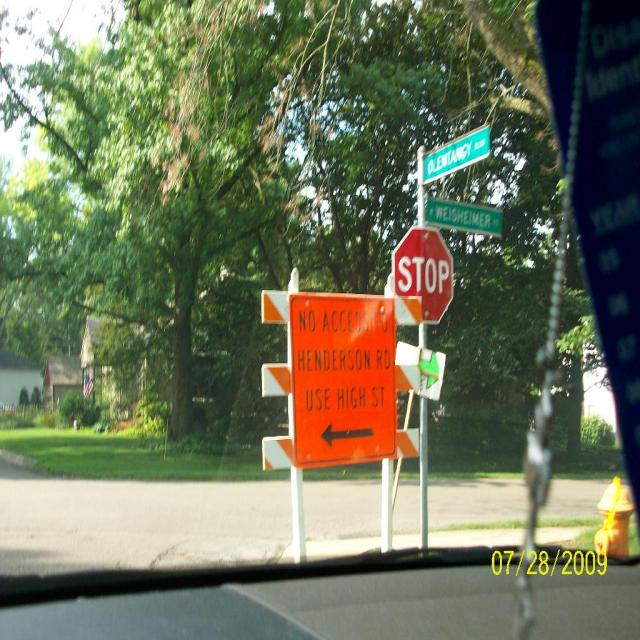Stop-sign: (391, 224, 454, 326)
